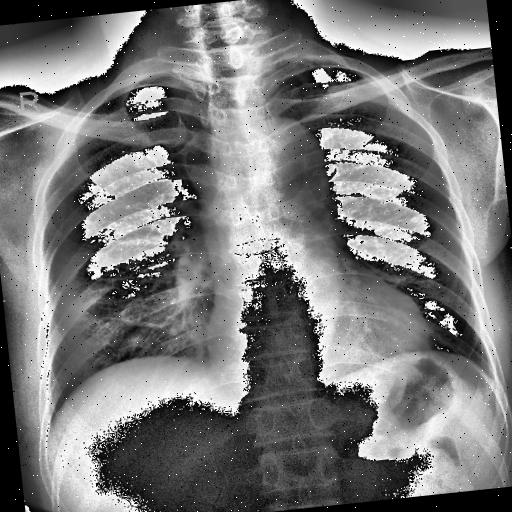0- Aortic enlargement: (241, 112, 331, 213), (231, 114, 329, 206), (250, 112, 326, 188)
3- Cardiomegaly: (200, 293, 434, 395)
